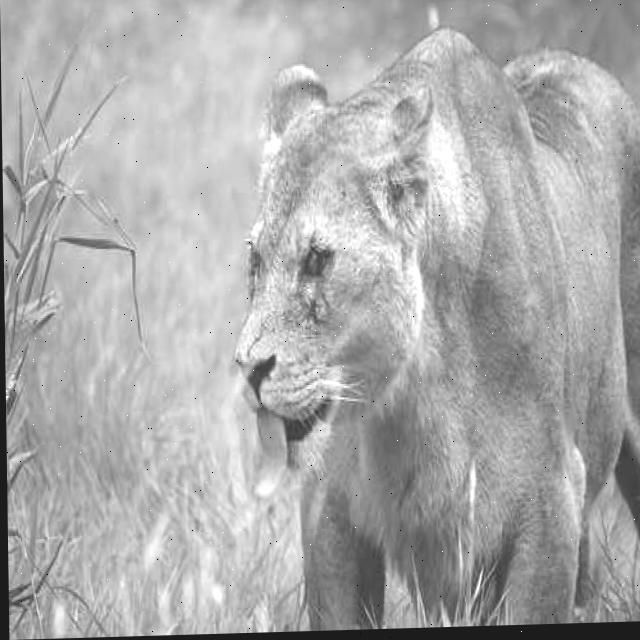Lion: (227, 32, 640, 633)
